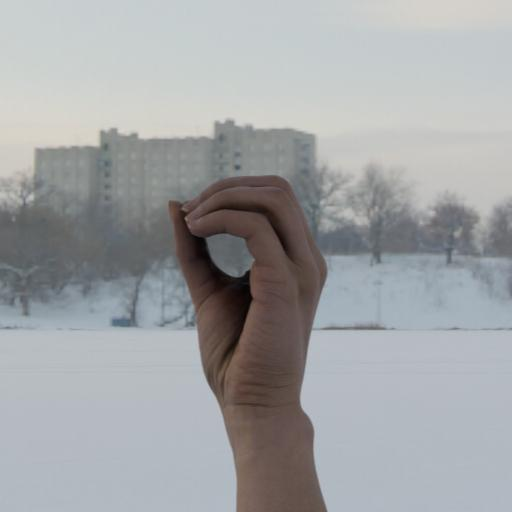O: (162, 166, 340, 512)
